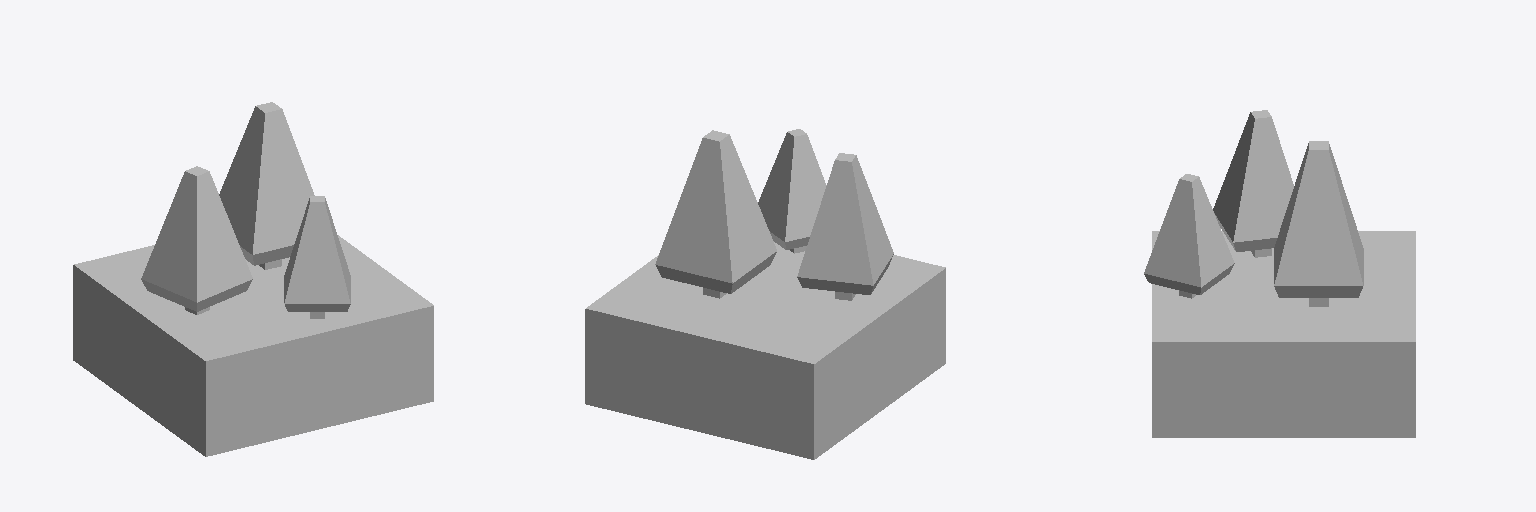
The model's file is towerDefense_062.obj.
3 views of the same model, side by side, from view 1: azimuth 30°, elevation 25°; view 2: azimuth 150°, elevation 25°; view 3: azimuth 270°, elevation 25° (orthographic).
Parts seen in each view (by area): view 1: Mesh4 Group1 Model, Mesh1 Component_2_1 Group1 Model, Mesh3 Component_2_3 Group1 Model, Mesh2 Component_2_2 Group1 Model; view 2: Mesh4 Group1 Model, Mesh1 Component_2_1 Group1 Model, Mesh3 Component_2_3 Group1 Model, Mesh2 Component_2_2 Group1 Model; view 3: Mesh4 Group1 Model, Mesh1 Component_2_1 Group1 Model, Mesh3 Component_2_3 Group1 Model, Mesh2 Component_2_2 Group1 Model.
Part boxes in pixels (x1,y1,x2,y2): Mesh4 Group1 Model: (73, 235, 433, 456); Mesh1 Component_2_1 Group1 Model: (219, 102, 314, 269); Mesh3 Component_2_3 Group1 Model: (141, 166, 252, 314); Mesh2 Component_2_2 Group1 Model: (284, 196, 350, 318); Mesh4 Group1 Model: (585, 242, 945, 459); Mesh1 Component_2_1 Group1 Model: (655, 130, 776, 298); Mesh3 Component_2_3 Group1 Model: (797, 153, 893, 300); Mesh2 Component_2_2 Group1 Model: (758, 129, 826, 253); Mesh4 Group1 Model: (1152, 231, 1415, 437); Mesh1 Component_2_1 Group1 Model: (1274, 141, 1363, 306); Mesh3 Component_2_3 Group1 Model: (1213, 110, 1293, 257); Mesh2 Component_2_2 Group1 Model: (1144, 174, 1234, 298).
Bounding box in the file's own units: 1 × 1.06 × 1.03.